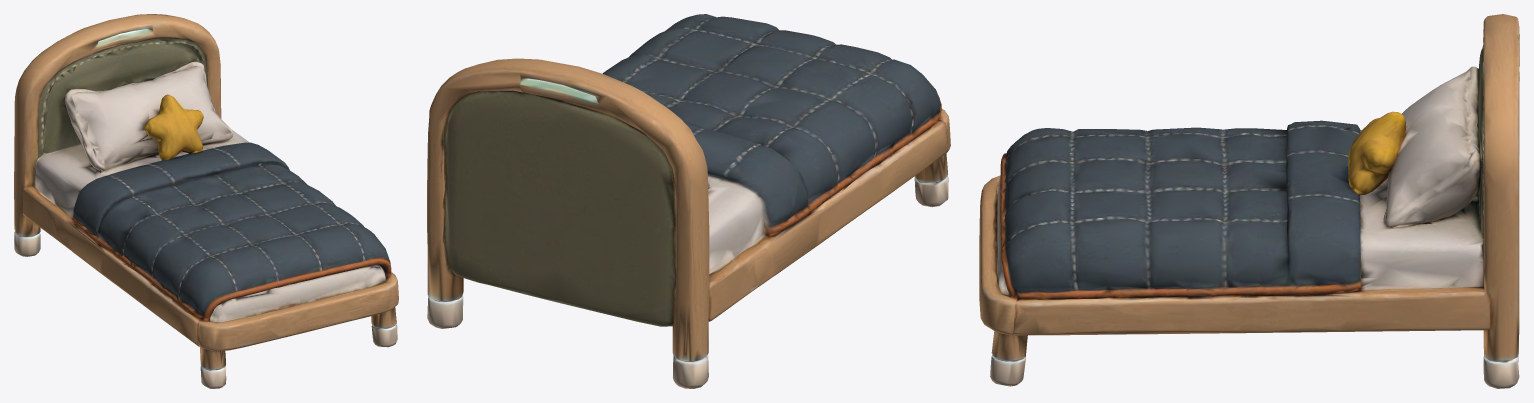
File: bed.low.glb
3 renders of one model, left to right at view 1: azimuth 30°, elevation 25°; view 2: azimuth 150°, elevation 25°; view 3: azimuth 270°, elevation 25°, orthographic. The views are drawn at different scales.
Parts seen in each view (by area): view 1: tripo_node_44f4c091-8c93-4444-b12b-0cba64eb0e09; view 2: tripo_node_44f4c091-8c93-4444-b12b-0cba64eb0e09; view 3: tripo_node_44f4c091-8c93-4444-b12b-0cba64eb0e09.
Part boxes in pixels (x1,y1,x2,y2): tripo_node_44f4c091-8c93-4444-b12b-0cba64eb0e09: [14, 14, 398, 388]; tripo_node_44f4c091-8c93-4444-b12b-0cba64eb0e09: [427, 14, 950, 388]; tripo_node_44f4c091-8c93-4444-b12b-0cba64eb0e09: [979, 14, 1519, 388].
Size of the model in its own units: 1.17 by 1.17 by 2.
Materials: 1 (1 with a texture image).
